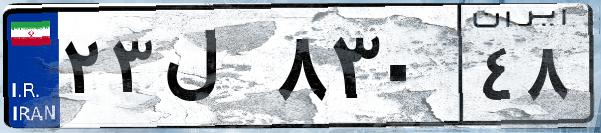0: (385, 28, 445, 110)
2: (57, 26, 110, 100)
3: (330, 28, 385, 110), (110, 28, 158, 98)
4: (475, 38, 525, 113)
8: (270, 28, 330, 110), (525, 38, 570, 115)
ل: (158, 20, 270, 120)
